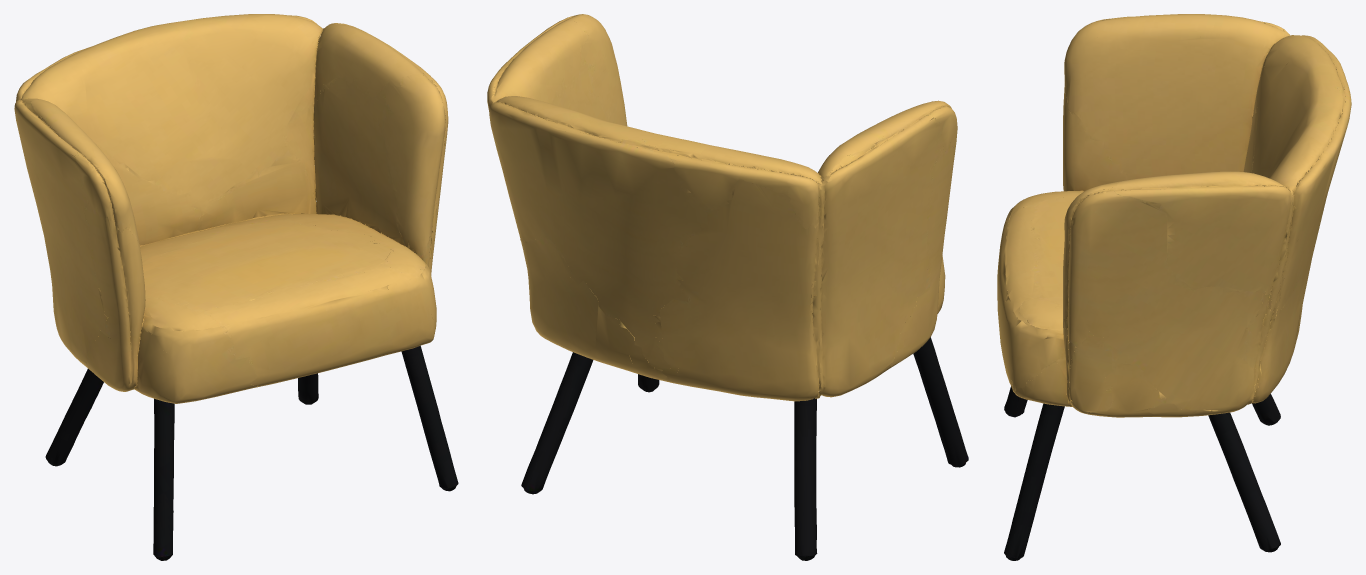
Rendered from ikea-herrakra-armchair-diserod-dark-yellow-40535547.glb.
3 views of the same model, side by side, from view 1: azimuth 30°, elevation 25°; view 2: azimuth 150°, elevation 25°; view 3: azimuth 270°, elevation 25° (orthographic). The views are drawn at different scales.
Parts seen in each view (by area): view 1: model; view 2: model; view 3: model.
Boxes of the visible parts, left/top/right/bottom form: model: left=14, top=14, right=458, bottom=560; model: left=487, top=14, right=968, bottom=560; model: left=997, top=14, right=1351, bottom=560.
Size of the model in its own units: 1.66 by 1.72 by 1.39.
Materials: 1 (1 with a texture image).
